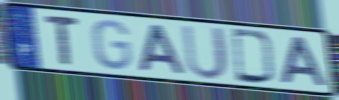A: (137, 23, 189, 77), (279, 35, 330, 89)
D: (230, 27, 278, 87)
G: (91, 18, 134, 72)
T: (42, 13, 81, 68)
U: (180, 23, 231, 82)
